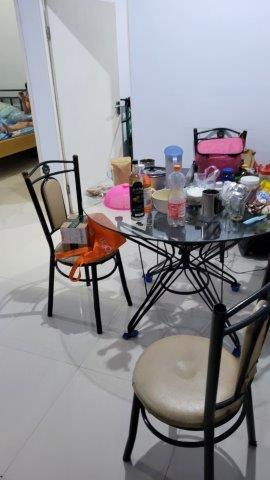botolkaca: (127, 159, 144, 221)
